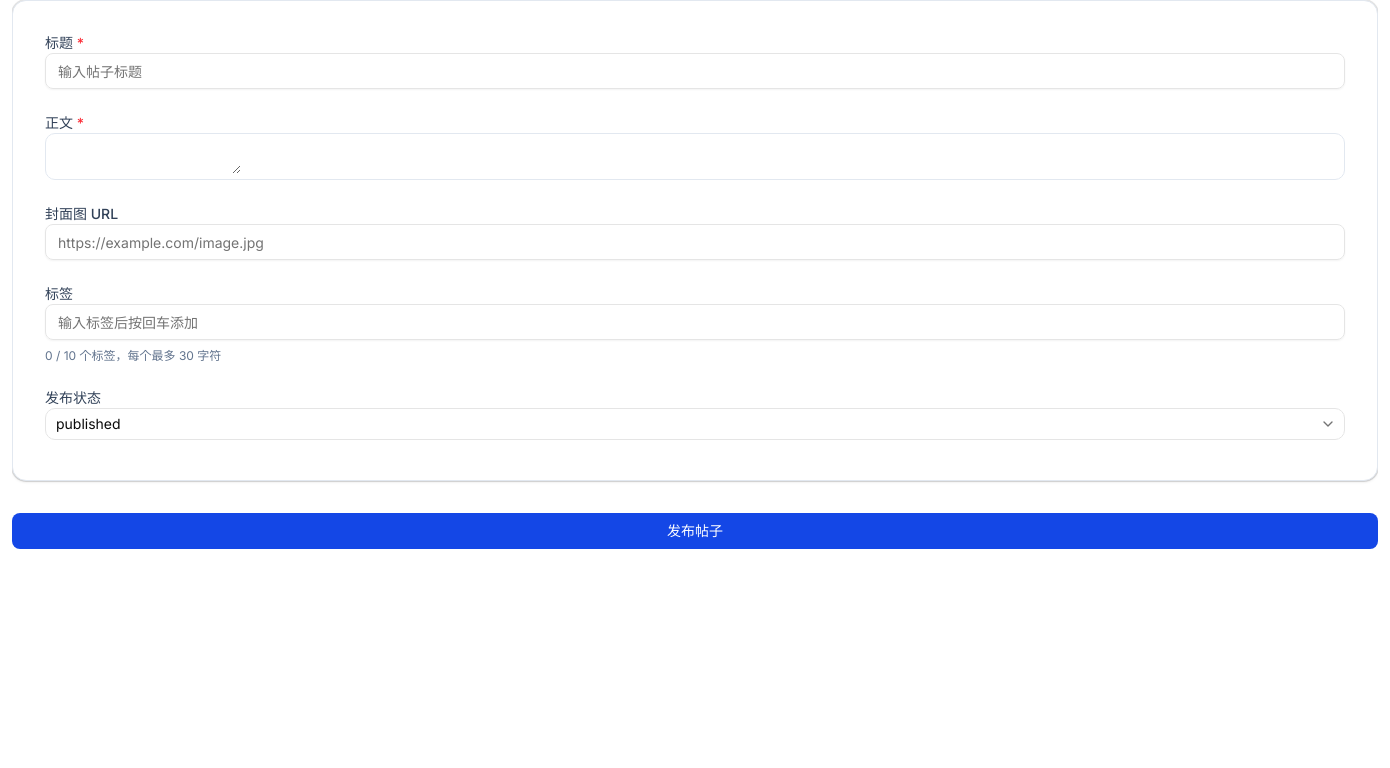
Test: PostForm › shows validation error when content is empty
Step 1. Type "My Title" into the field labelled "标题 *" → (695, 71), box left=45, top=53, right=1345, bottom=89
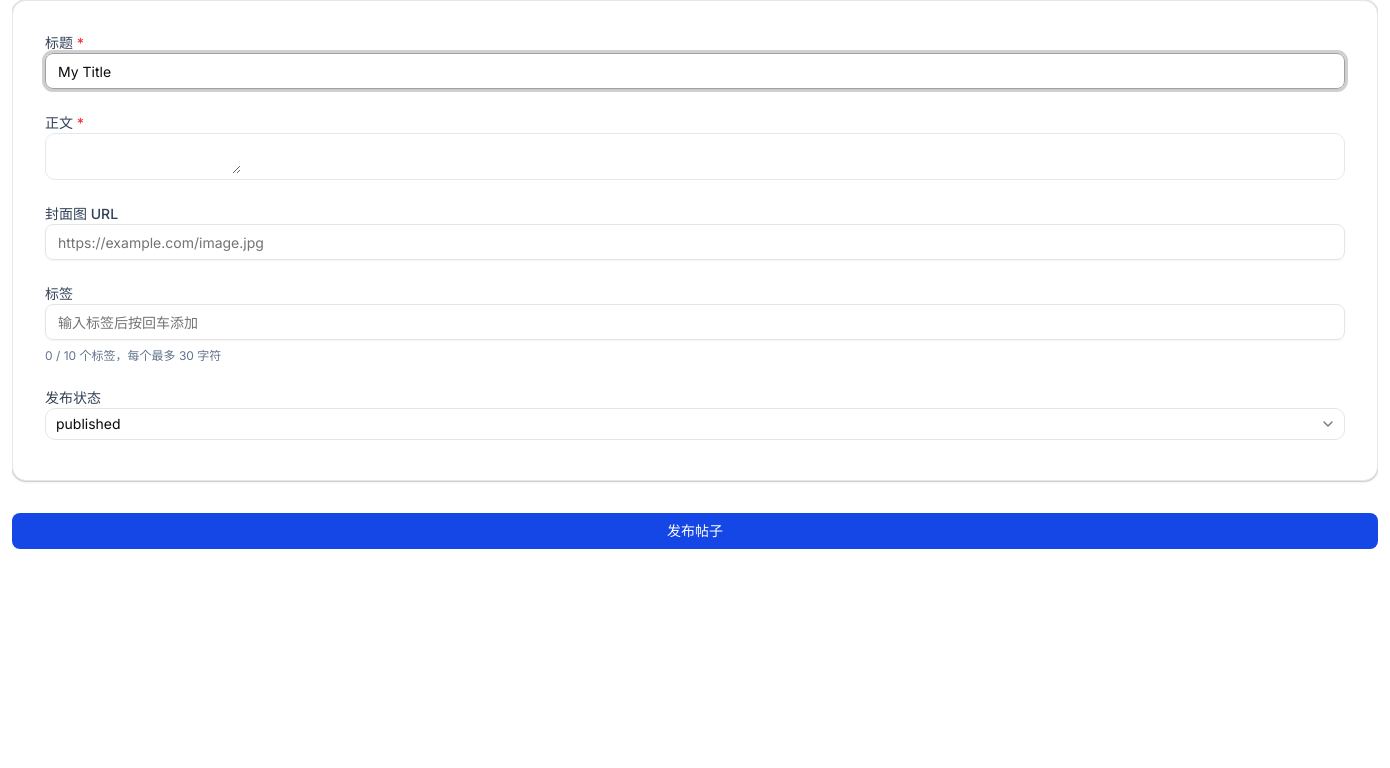
Step 2. Click the button "发布帖子" → (695, 531), box left=12, top=513, right=1378, bottom=549
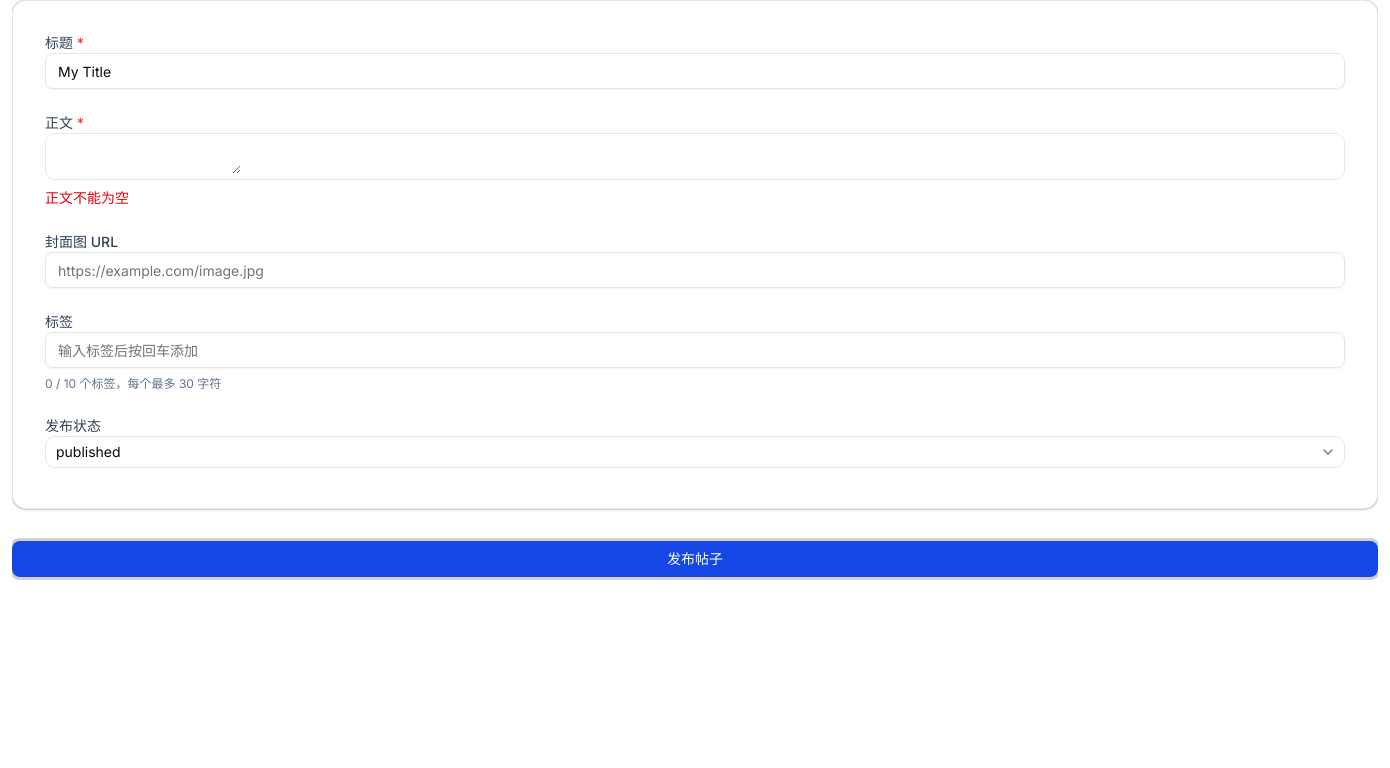
Expected: the text "正文不能为空" is shown, left=45, top=189, right=129, bottom=206
